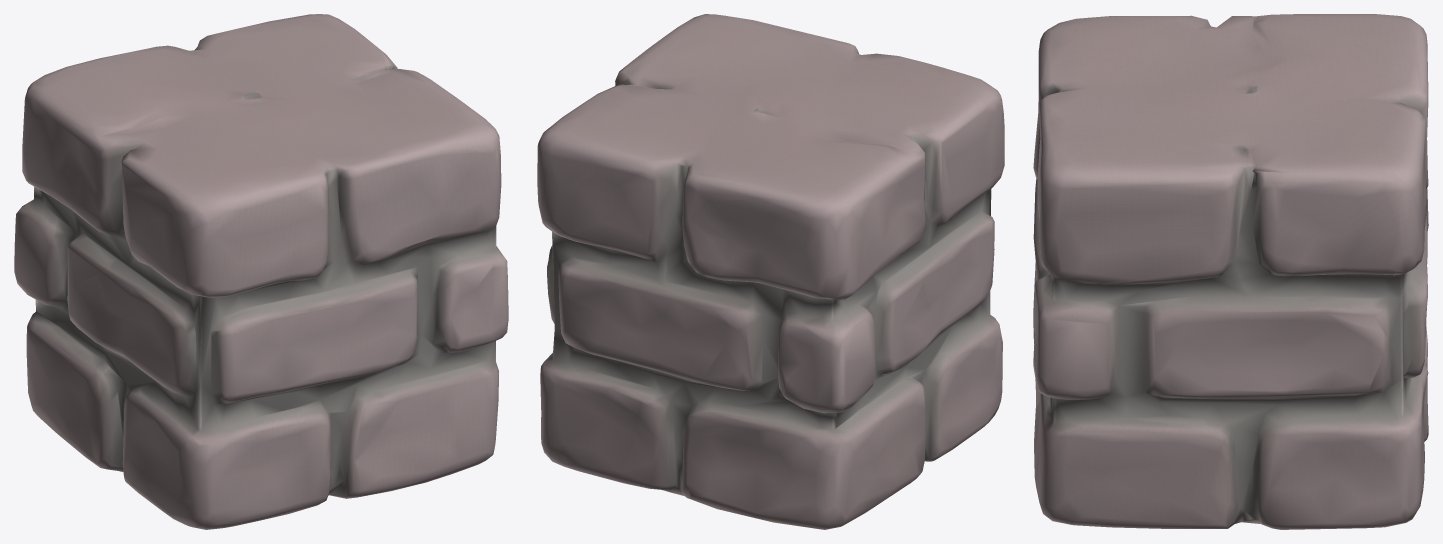
The model's file is cement-platform.glb.
3 renders of one model, left to right at view 1: azimuth 30°, elevation 25°; view 2: azimuth 150°, elevation 25°; view 3: azimuth 270°, elevation 25°, orthographic. The views are drawn at different scales.
Visible parts, largest first — view 1: world; view 2: world; view 3: world.
Part boxes in pixels (<box>): world: <box>14,14,508,529</box>; world: <box>537,14,1004,529</box>; world: <box>1033,14,1428,529</box>.
Bounding box in the file's own units: 0.9919 × 1 × 0.982.
1 material, 1 textured.
